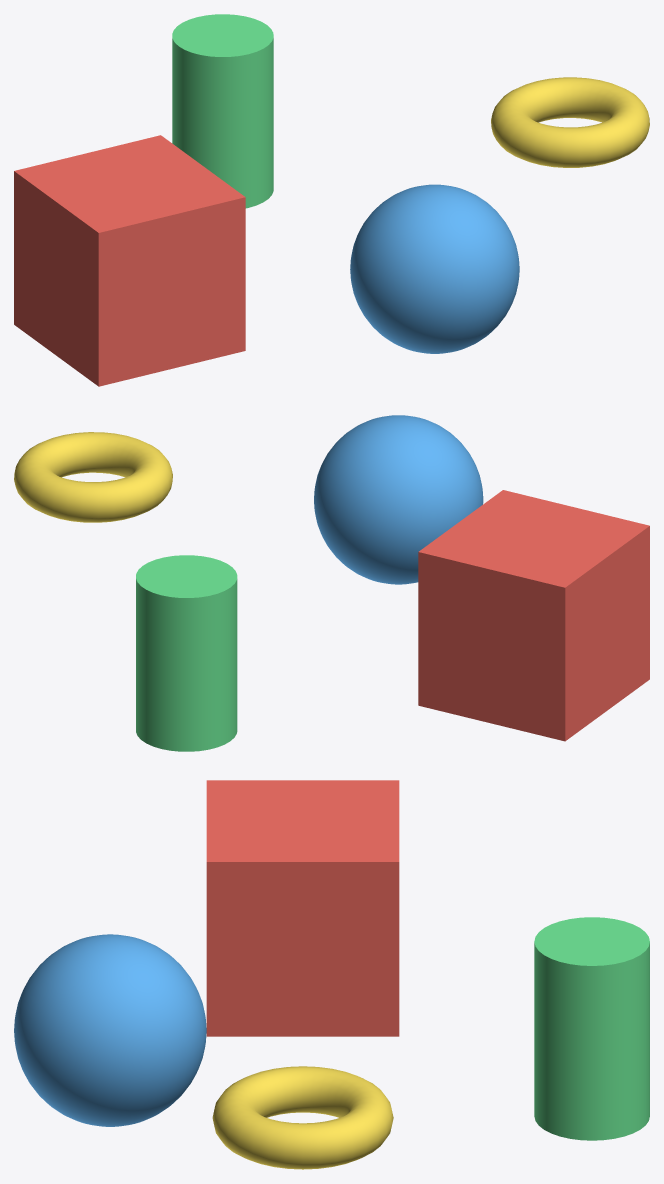
The model's file is sample.glb.
3 views of the same model, one above another, from view 1: azimuth 30°, elevation 25°; view 2: azimuth 150°, elevation 25°; view 3: azimuth 270°, elevation 25° (orthographic). The views are drawn at different scales.
Parts seen in each view (by area): view 1: Cube, Sphere, Cylinder, Torus; view 2: Cube, Sphere, Cylinder, Torus; view 3: Cube, Sphere, Cylinder, Torus.
Part boxes in pixels (x1,y1,x2,y2): Cube: (14, 135, 245, 386); Sphere: (350, 184, 519, 353); Cylinder: (172, 14, 273, 208); Torus: (491, 77, 649, 167); Cube: (418, 490, 649, 741); Sphere: (314, 415, 483, 584); Cylinder: (136, 555, 237, 751); Torus: (14, 432, 172, 522); Cube: (206, 780, 399, 1036); Sphere: (14, 934, 206, 1126); Cylinder: (534, 917, 649, 1140); Torus: (212, 1066, 393, 1169).
Size of what is drawn, in the model's own units: 3.97 by 1.01 by 3.3.
